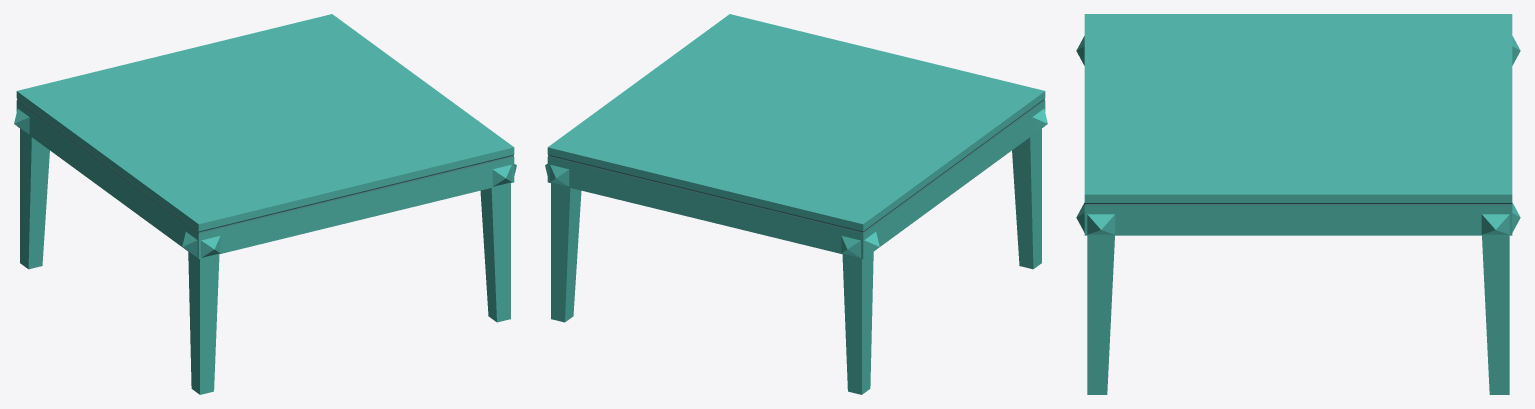
Rendered from prop_table.fbx.
3 renders of one model, left to right at view 1: azimuth 30°, elevation 25°; view 2: azimuth 150°, elevation 25°; view 3: azimuth 270°, elevation 25°, orthographic. The views are drawn at different scales.
Visible parts, largest first — view 1: Cube; view 2: Cube; view 3: Cube.
Part boxes in pixels (x1,y1,x2,y2): Cube: [14, 14, 516, 394]; Cube: [545, 14, 1047, 394]; Cube: [1076, 14, 1520, 394].
Bounding box in the file's own units: 1233 × 605 × 1209.
